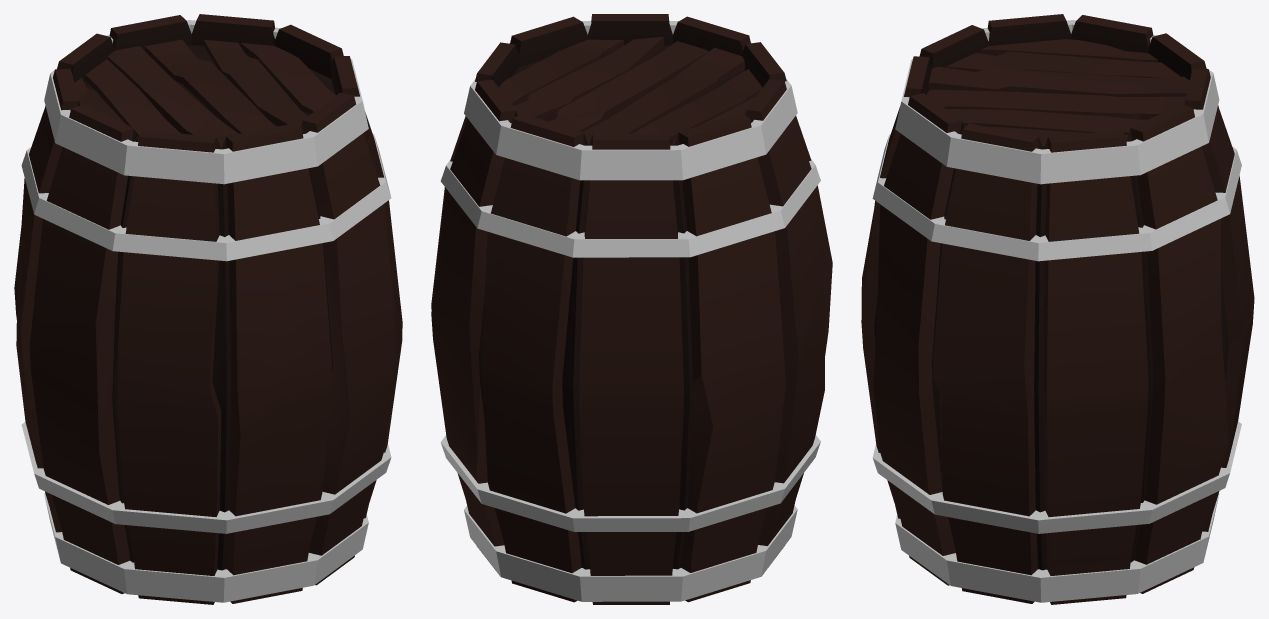
File: Barrel.obj
3 renders of one model, left to right at view 1: azimuth 30°, elevation 25°; view 2: azimuth 150°, elevation 25°; view 3: azimuth 270°, elevation 25°, orthographic.
Parts seen in each view (by area): view 1: Barrel_Cylinder.037; view 2: Barrel_Cylinder.037; view 3: Barrel_Cylinder.037.
Part boxes in pixels (x1=…): Barrel_Cylinder.037: x1=14, y1=14, x2=402, y2=604; Barrel_Cylinder.037: x1=431, y1=14, x2=832, y2=604; Barrel_Cylinder.037: x1=861, y1=14, x2=1254, y2=604.
Bounding box in the file's own units: 0.1582 × 0.2043 × 0.1568.
